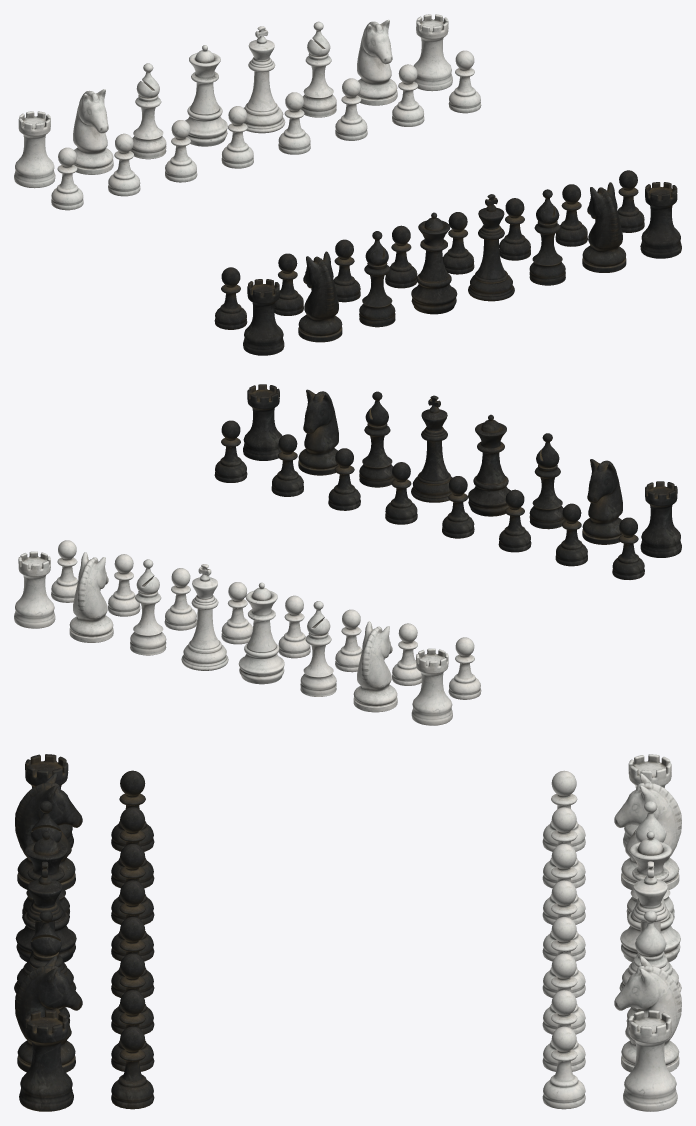
The model's file is chess_set.gltf.
3 views of the same model, one above another, from view 1: azimuth 30°, elevation 25°; view 2: azimuth 150°, elevation 25°; view 3: azimuth 270°, elevation 25° (orthographic). The views are drawn at different scales.
Parts seen in each view (by area): view 1: piece_queen_black, piece_knight_black_01, piece_knight_black_02, piece_queen_white, piece_knight_white_01, piece_knight_white_02, piece_king_black, piece_king_white, piece_rook_black_02, piece_rook_white_02, piece_rook_black_01, piece_rook_white_01 (+20 smaller); view 2: piece_queen_white, piece_knight_white_02, piece_knight_white_01, piece_queen_black, piece_knight_black_02, piece_knight_black_01, piece_king_white, piece_king_black, piece_rook_white_02, piece_rook_white_01, piece_rook_black_01, piece_rook_black_02 (+20 smaller); view 3: piece_rook_black_02, piece_rook_white_01, piece_knight_white_01, piece_knight_black_02, piece_knight_white_02, piece_knight_black_01, piece_queen_white, piece_queen_black, piece_pawn_white_01, piece_pawn_black_08, piece_king_black, piece_king_white (+20 smaller).
Part boxes in pixels (x1=…): piece_queen_black: x1=411, y1=212, x2=457, y2=314; piece_knight_black_01: x1=298, y1=251, x2=342, y2=342; piece_knight_black_02: x1=582, y1=182, x2=626, y2=272; piece_queen_white: x1=185, y1=45, x2=227, y2=146; piece_knight_white_01: x1=357, y1=19, x2=397, y2=105; piece_knight_white_02: x1=73, y1=89, x2=113, y2=174; piece_king_black: x1=468, y1=194, x2=514, y2=301; piece_king_white: x1=244, y1=26, x2=285, y2=133; piece_rook_black_02: x1=640, y1=182, x2=681, y2=258; piece_rook_white_02: x1=14, y1=111, x2=55, y2=188; piece_rook_black_01: x1=243, y1=279, x2=284, y2=355; piece_rook_white_01: x1=413, y1=14, x2=452, y2=91; piece_queen_white: x1=238, y1=582, x2=284, y2=684; piece_knight_white_02: x1=353, y1=621, x2=397, y2=712; piece_knight_white_01: x1=69, y1=552, x2=113, y2=642; piece_queen_black: x1=468, y1=414, x2=510, y2=516; piece_knight_black_02: x1=298, y1=389, x2=338, y2=475; piece_knight_black_01: x1=582, y1=459, x2=622, y2=544; piece_king_white: x1=181, y1=564, x2=228, y2=670; piece_king_black: x1=411, y1=395, x2=452, y2=502; piece_rook_white_02: x1=411, y1=648, x2=452, y2=725; piece_rook_white_01: x1=14, y1=551, x2=55, y2=628; piece_rook_black_01: x1=640, y1=481, x2=681, y2=557; piece_rook_black_02: x1=243, y1=384, x2=282, y2=460; piece_rook_black_02: x1=19, y1=1010, x2=73, y2=1111; piece_rook_white_01: x1=623, y1=1010, x2=677, y2=1111; piece_knight_white_01: x1=614, y1=956, x2=681, y2=1072; piece_knight_black_02: x1=15, y1=956, x2=82, y2=1072; piece_knight_white_02: x1=614, y1=773, x2=681, y2=890; piece_knight_black_01: x1=15, y1=773, x2=82, y2=889; piece_queen_white: x1=620, y1=831, x2=680, y2=962; piece_queen_black: x1=15, y1=831, x2=76, y2=962; piece_pawn_white_01: x1=542, y1=1026, x2=585, y2=1109; piece_pawn_black_08: x1=111, y1=1026, x2=154, y2=1109; piece_king_black: x1=14, y1=861, x2=76, y2=993; piece_king_white: x1=619, y1=861, x2=681, y2=992.
Size of the model in its own units: 0.4421 by 0.0953 by 0.4471.
Materials: 2 (2 with a texture image).
